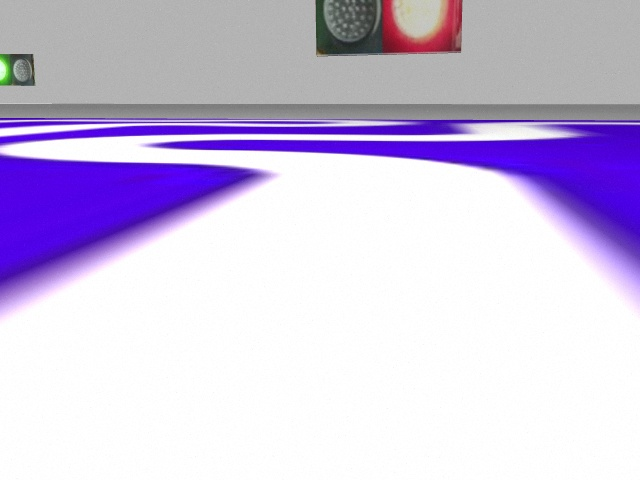red: (382, 2, 462, 53)
